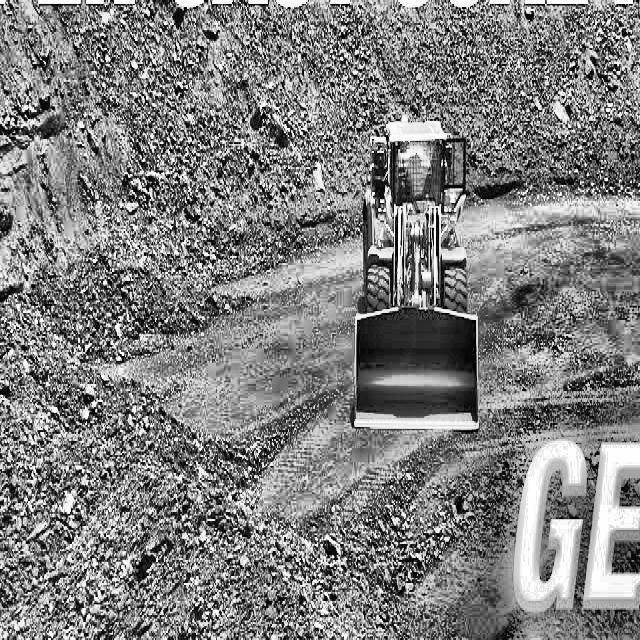buldozerpayloadergrader: (342, 88, 494, 442)
